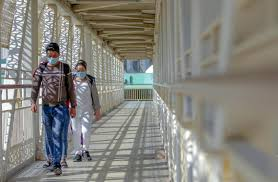mask: (44, 40, 61, 66), (73, 57, 88, 81)
